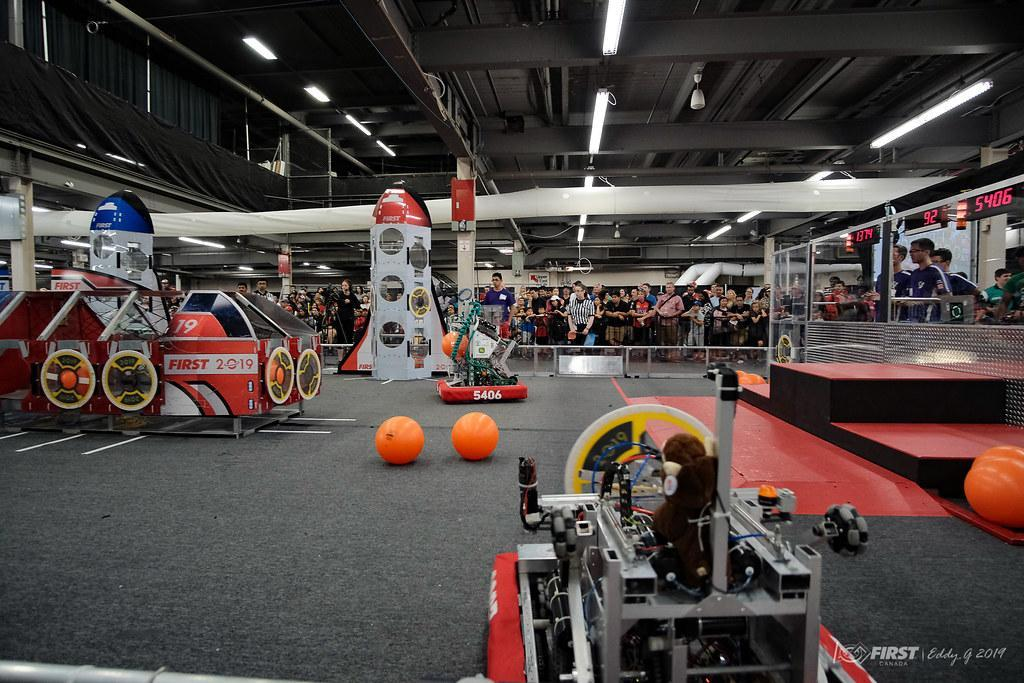robot: (462, 366, 884, 683), (432, 300, 533, 407)
